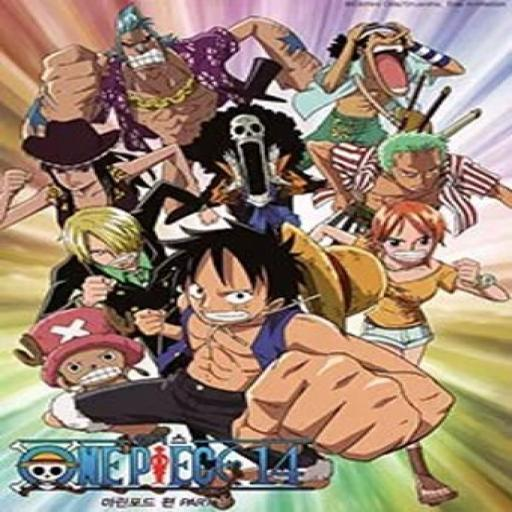Luffy: (163, 226, 292, 331)
Nami: (368, 198, 462, 268)
NicoRobin: (32, 112, 121, 196)
Usopp: (343, 16, 422, 101)
Zoro: (374, 132, 462, 194)
sanji: (56, 198, 148, 274)
